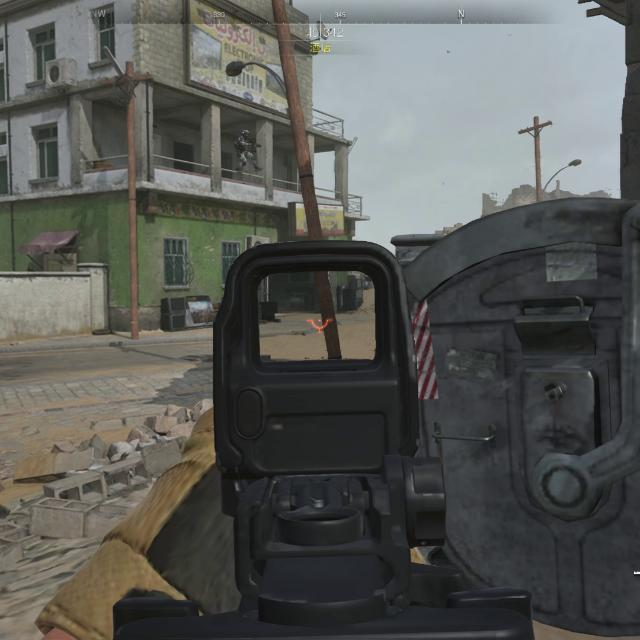MW2_body: (235, 130, 264, 173)
